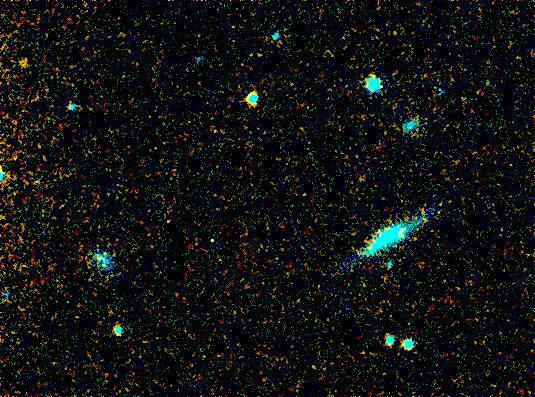star: (367, 221, 397, 251)
